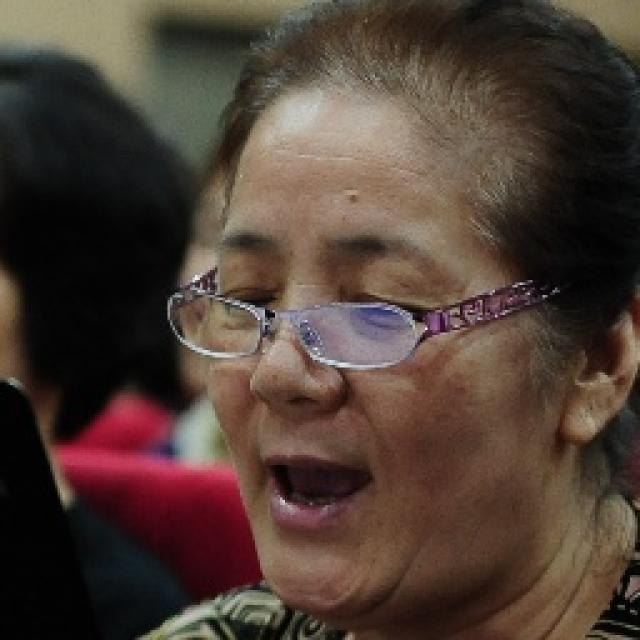earlobe: (555, 280, 640, 448)
